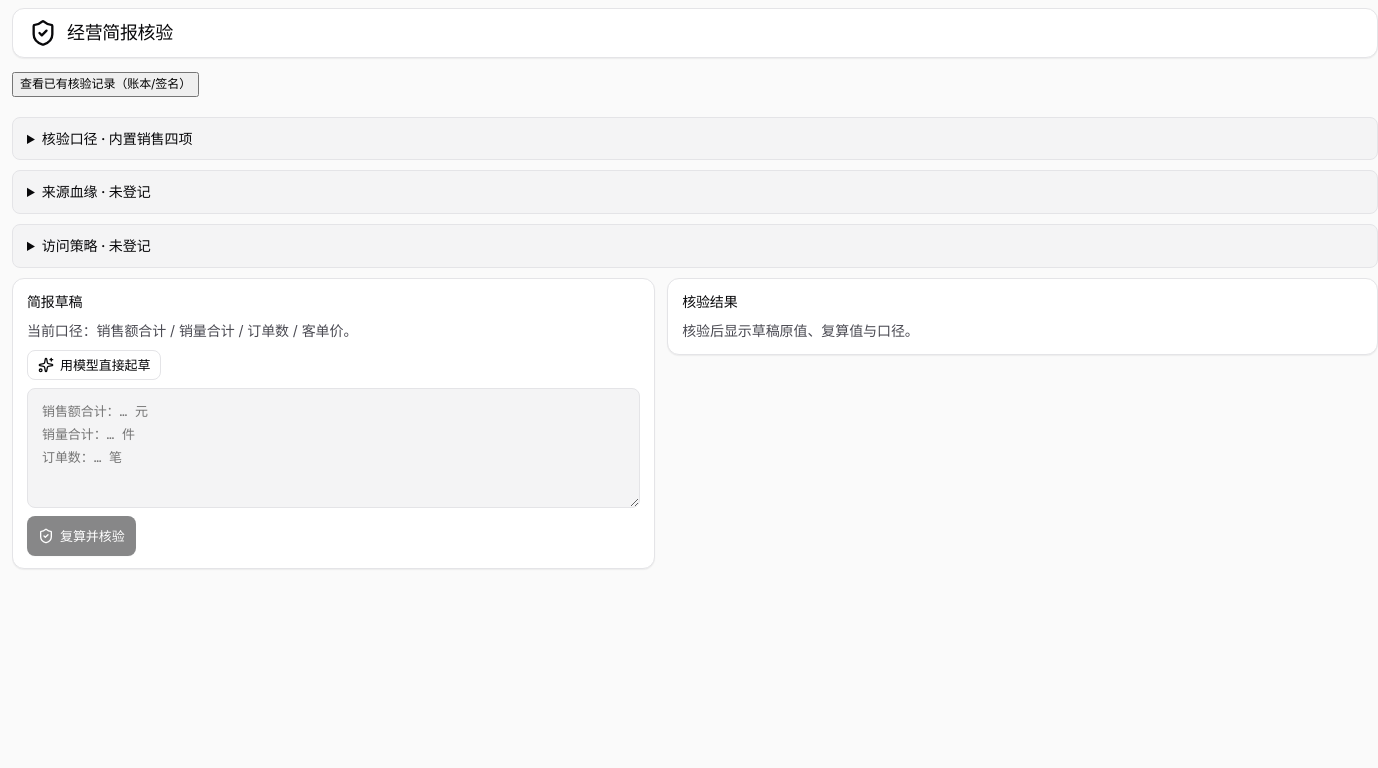
Scenario: SalesAudit › 确认返回 409 时清空结果、提示重新核验并把焦点放回草稿框
Type "订单数：1 笔" into the text box labelled "简报草稿" at (334, 448), box [27,388,640,508]
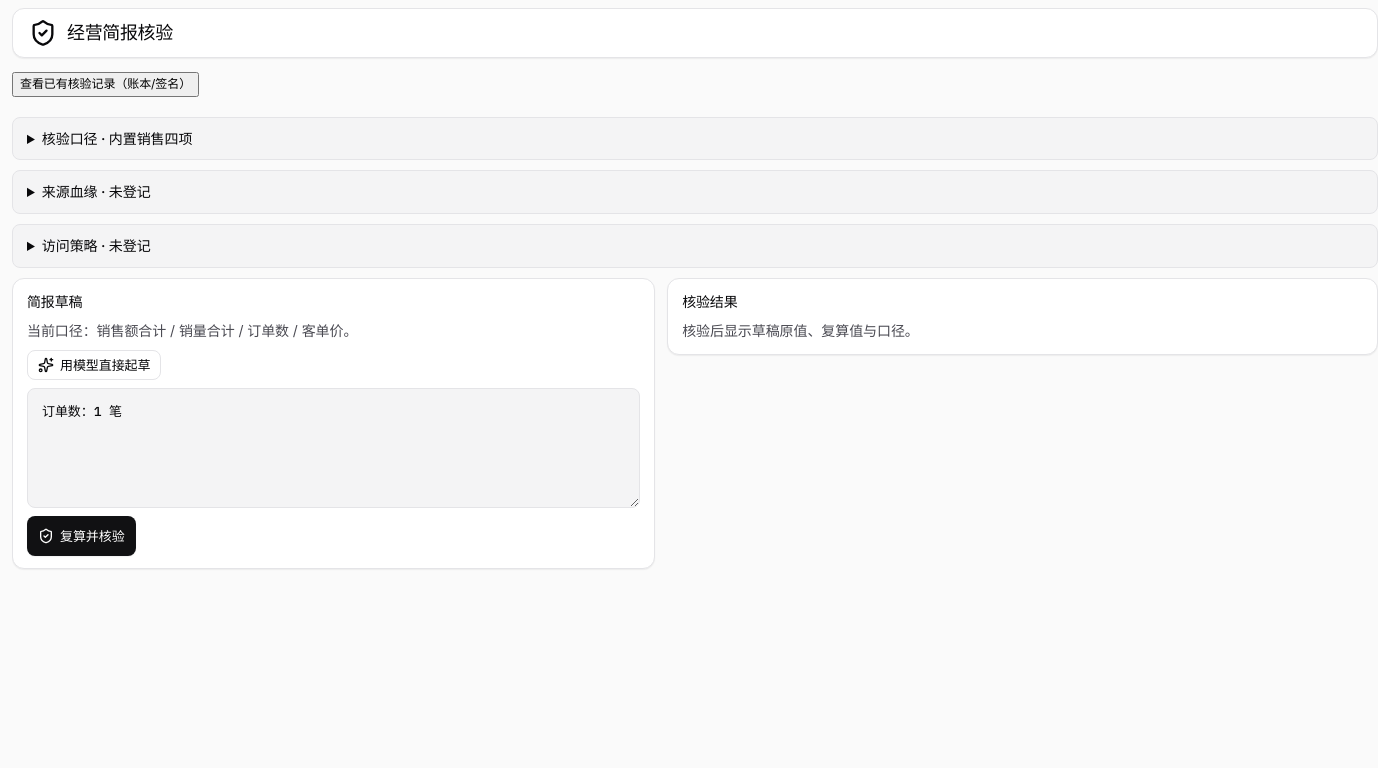
Click the button "复算并核验" at (81, 536), box [27,516,136,556]
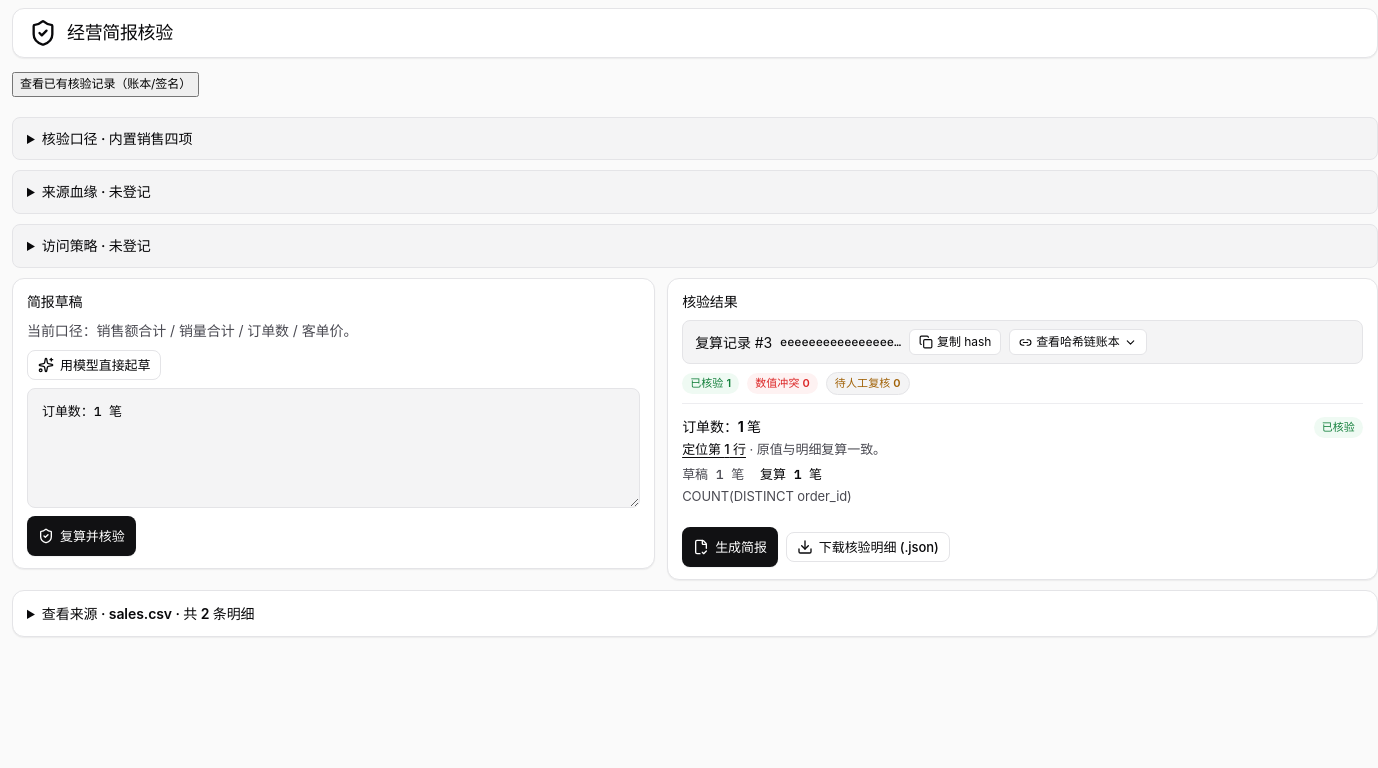
Click the button "生成简报" at (730, 547), box [682,527,778,567]
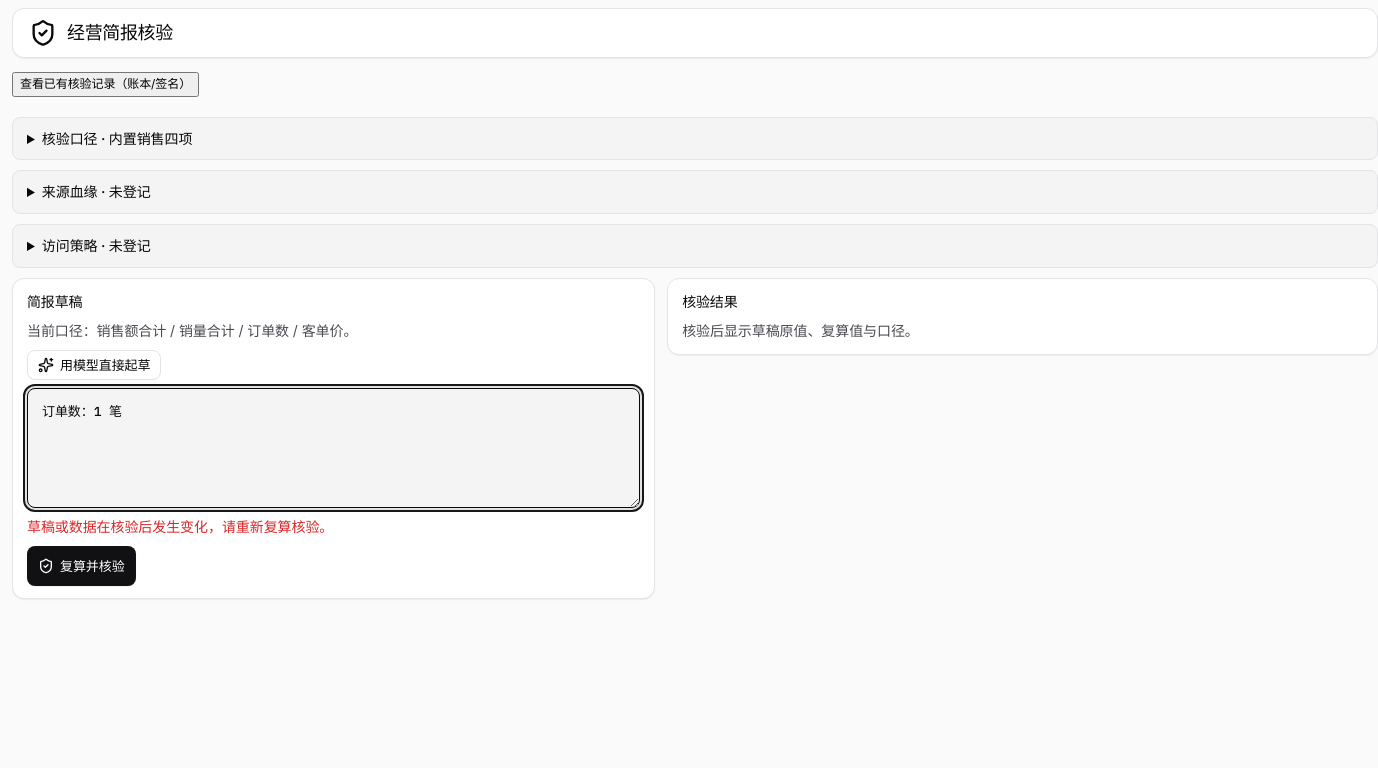
Expected: the message shows "草稿或数据在核验后发生变化，请重新复算核验", [27,518,333,535]
Expected: the text "已核验 1" is gone
